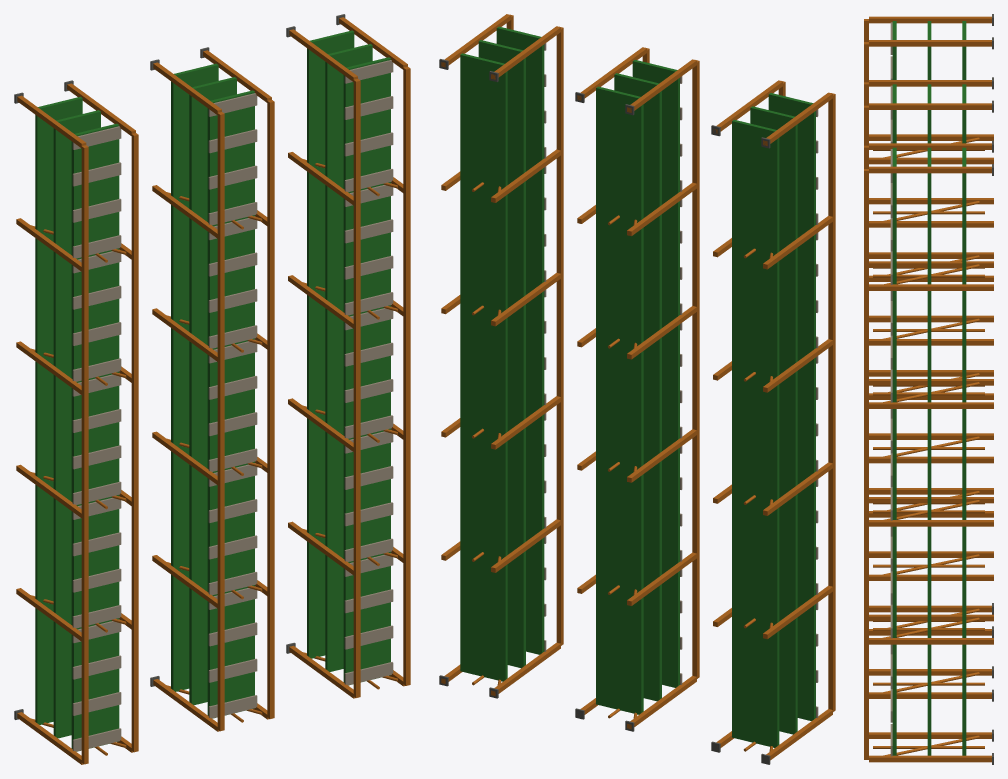
The model's file is EQ_04_RACKS.obj.
3 renders of one model, left to right at view 1: azimuth 30°, elevation 25°; view 2: azimuth 150°, elevation 25°; view 3: azimuth 270°, elevation 25°, orthographic. The views are drawn at different scales.
Parts seen in each view (by area): view 1: RACK_RK1_TieBeam_Top_Front, RACK_RK1_TieBeam_Top_Rear, RACK_RK3_TieBeam_Top_Rear, RACK_RK2_TieBeam_Top_Front, RACK_RK3_TieBeam_Top_Front, RACK_RK2_TieBeam_Top_Rear, RACK_RK1_Bay05_BeamF_Z195, RACK_RK2_Bay05_BeamF_Z195, RACK_RK3_Bay05_BeamF_Z195, RACK_RK1_Bay04_BeamF_Z195, RACK_RK1_Bay03_BeamF_Z195, RACK_RK1_Bay02_BeamF_Z195 (+39 smaller); view 2: RACK_RK2_Bay05_BeamF_Z55, RACK_RK3_Bay05_BeamF_Z55, RACK_RK1_Bay05_BeamF_Z55, RACK_RK3_Bay01_BeamF_Z55, RACK_RK2_Bay01_BeamF_Z55, RACK_RK3_Bay04_BeamF_Z55, RACK_RK1_Bay01_BeamF_Z55, RACK_RK2_Bay02_BeamF_Z55, RACK_RK3_Bay02_BeamF_Z55, RACK_RK3_Bay03_BeamF_Z55, RACK_RK1_Bay02_BeamF_Z55, RACK_RK2_Bay03_BeamF_Z55 (+48 smaller); view 3: RACK_RK3_TieBeam_Top_Rear, RACK_RK3_Bay05_UpR_145, RACK_RK3_Bay01_UpR_15, RACK_RK1_Bay05_UpF_145, RACK_RK2_Bay02_UpR_67, RACK_RK1_Bay04_UpR_119, RACK_RK2_Bay03_UpF_93, RACK_RK3_Bay01_UpF_41, RACK_RK3_Bay01_UpR_41, RACK_RK3_Bay02_UpR_67, RACK_RK3_Bay03_UpR_93, RACK_RK3_Bay04_UpR_119 (+66 smaller).
Boxes of the visible parts, bbox=[...] form: RACK_RK1_TieBeam_Top_Front: bbox=[81, 145, 88, 764]; RACK_RK1_TieBeam_Top_Rear: bbox=[131, 133, 138, 752]; RACK_RK3_TieBeam_Top_Rear: bbox=[403, 66, 410, 685]; RACK_RK2_TieBeam_Top_Front: bbox=[217, 112, 224, 731]; RACK_RK3_TieBeam_Top_Front: bbox=[353, 79, 360, 697]; RACK_RK2_TieBeam_Top_Rear: bbox=[267, 100, 274, 718]; RACK_RK1_Bay05_BeamF_Z195: bbox=[71, 123, 119, 258]; RACK_RK2_Bay05_BeamF_Z195: bbox=[207, 90, 254, 225]; RACK_RK3_Bay05_BeamF_Z195: bbox=[343, 57, 390, 191]; RACK_RK1_Bay04_BeamF_Z195: bbox=[71, 248, 119, 381]; RACK_RK1_Bay03_BeamF_Z195: bbox=[71, 371, 119, 505]; RACK_RK1_Bay02_BeamF_Z195: bbox=[71, 495, 119, 628]; RACK_RK2_Bay05_BeamF_Z55: bbox=[596, 86, 643, 221]; RACK_RK3_Bay05_BeamF_Z55: bbox=[460, 53, 507, 188]; RACK_RK1_Bay05_BeamF_Z55: bbox=[732, 119, 779, 254]; RACK_RK3_Bay01_BeamF_Z55: bbox=[460, 548, 507, 681]; RACK_RK2_Bay01_BeamF_Z55: bbox=[596, 581, 643, 714]; RACK_RK3_Bay04_BeamF_Z55: bbox=[460, 178, 507, 311]; RACK_RK1_Bay01_BeamF_Z55: bbox=[732, 614, 779, 747]; RACK_RK2_Bay02_BeamF_Z55: bbox=[596, 458, 643, 591]; RACK_RK3_Bay02_BeamF_Z55: bbox=[460, 425, 507, 558]; RACK_RK3_Bay03_BeamF_Z55: bbox=[460, 301, 507, 434]; RACK_RK1_Bay02_BeamF_Z55: bbox=[732, 491, 779, 624]; RACK_RK2_Bay03_BeamF_Z55: bbox=[596, 334, 643, 468]; RACK_RK3_TieBeam_Top_Rear: bbox=[864, 169, 868, 759]; RACK_RK3_Bay05_UpR_145: bbox=[869, 166, 991, 173]; RACK_RK3_Bay01_UpR_15: bbox=[869, 755, 991, 762]; RACK_RK1_Bay05_UpF_145: bbox=[869, 16, 991, 23]; RACK_RK2_Bay02_UpR_67: bbox=[869, 456, 993, 463]; RACK_RK1_Bay04_UpR_119: bbox=[869, 157, 993, 164]; RACK_RK2_Bay03_UpF_93: bbox=[869, 315, 993, 322]; RACK_RK3_Bay01_UpF_41: bbox=[869, 614, 993, 621]; RACK_RK3_Bay01_UpR_41: bbox=[869, 638, 993, 644]; RACK_RK3_Bay02_UpR_67: bbox=[869, 520, 993, 526]; RACK_RK3_Bay03_UpR_93: bbox=[869, 402, 993, 408]; RACK_RK3_Bay04_UpR_119: bbox=[869, 284, 993, 290].
Bounding box in the file's own units: 7.28 × 13.18 × 2.6.
